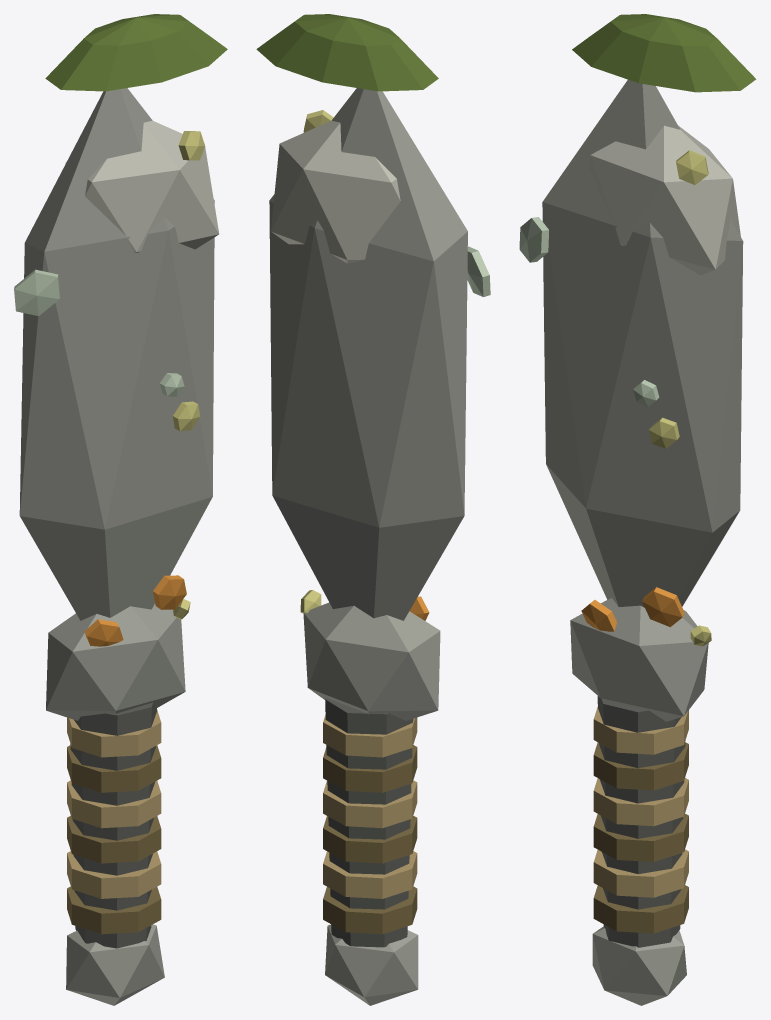
The model's file is stone_slab.glb.
3 renders of one model, left to right at view 1: azimuth 30°, elevation 25°; view 2: azimuth 150°, elevation 25°; view 3: azimuth 330°, elevation 25°, orthographic.
Visible parts, largest first — view 1: stone_slab; view 2: stone_slab; view 3: stone_slab.
Boxes of the visible parts, box(x1,y1,x2,y2) form: stone_slab: box(14, 14, 227, 1005); stone_slab: box(256, 14, 490, 1005); stone_slab: box(519, 14, 756, 1005).
Size of the model in its own units: 0.3833 by 1.67 by 0.1722.
